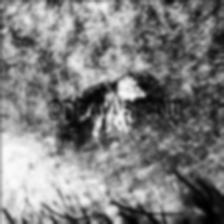Toxin: (63, 37, 166, 97), (53, 119, 156, 172)
